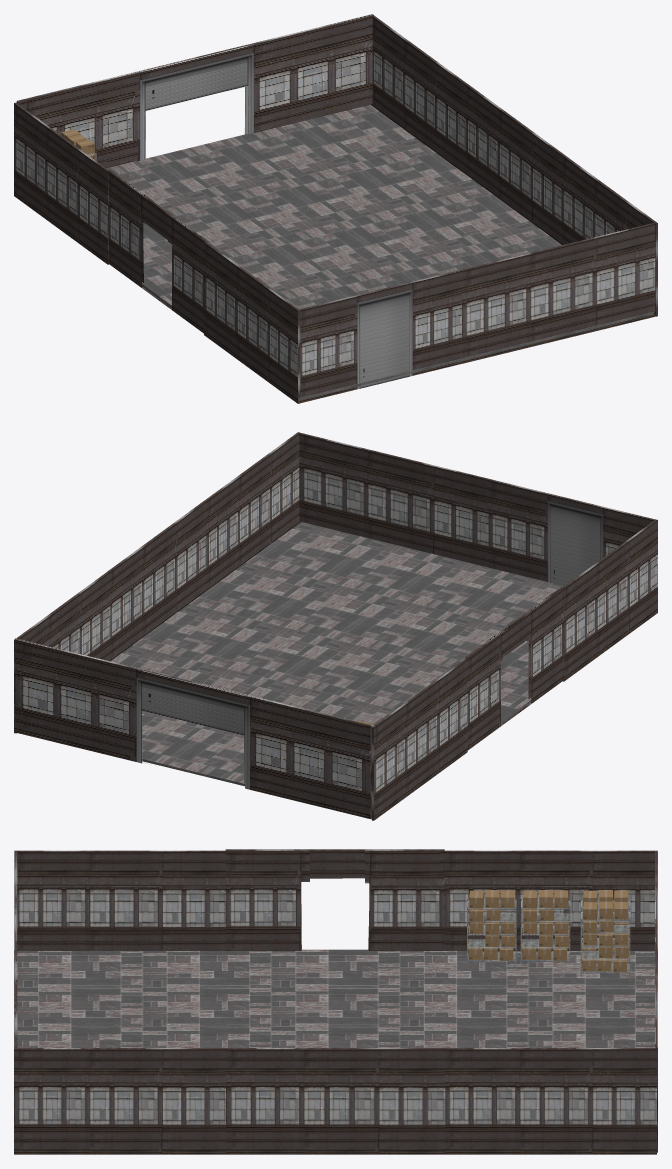
3 views of the same model, one above another, from view 1: azimuth 30°, elevation 25°; view 2: azimuth 150°, elevation 25°; view 3: azimuth 270°, elevation 25° (orthographic). The views are drawn at different scales.
Parts seen in each view (by area): view 1: Factory002, Object001; view 2: Factory002, Object001; view 3: Factory002, Object001, Material2.009, Material2.006, Material2.003, Material2.010, Material2.007, Material2.004, Material2.
Part boxes in pixels (bbox=[...]): Factory002: bbox=[14, 14, 657, 403]; Object001: bbox=[106, 104, 653, 400]; Factory002: bbox=[14, 432, 657, 820]; Object001: bbox=[111, 522, 564, 816]; Factory002: bbox=[14, 849, 657, 1154]; Object001: bbox=[14, 949, 654, 1047]; Material2.009: bbox=[468, 890, 515, 960]; Material2.006: bbox=[582, 901, 628, 972]; Material2.003: bbox=[522, 890, 568, 960]; Material2.010: bbox=[467, 900, 516, 961]; Material2.007: bbox=[581, 912, 630, 973]; Material2.004: bbox=[521, 900, 570, 961]; Material2: bbox=[582, 890, 628, 953].
Bounding box in the file's own units: 16.27 × 22.28 × 4.07.
8 materials, 8 textured.
